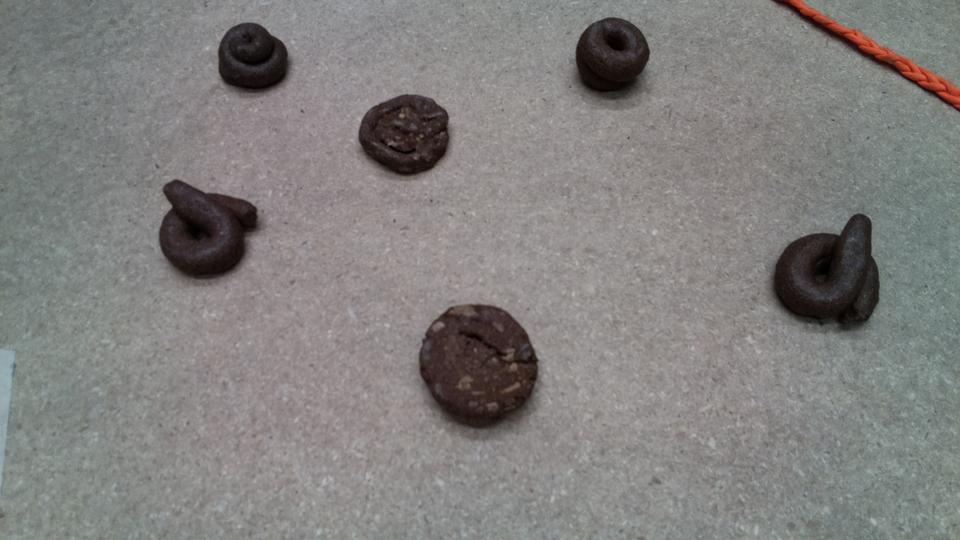poop: (426, 306, 538, 427), (773, 214, 881, 334), (160, 181, 258, 276), (361, 94, 451, 176), (578, 17, 649, 95), (218, 23, 289, 90)
rope: (913, 69, 953, 99), (850, 34, 889, 62), (817, 13, 851, 39), (888, 54, 914, 80), (782, 1, 817, 19)
